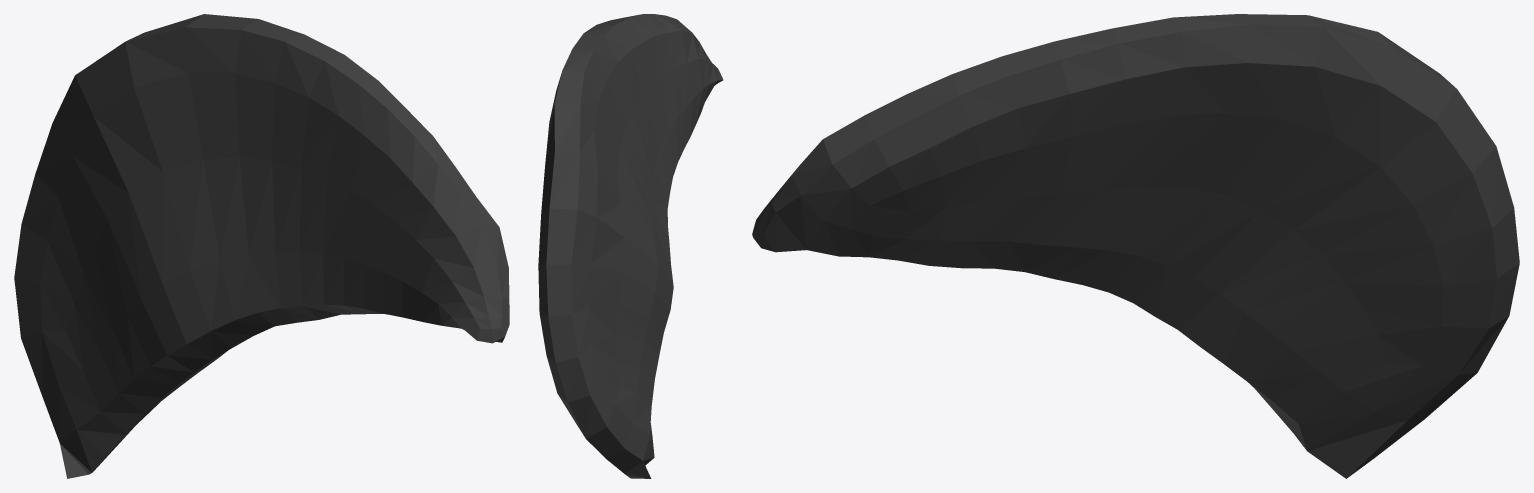
Rendered from RFL_scapula_cartilage.glb.
The picture shows the model from 3 angles, left to right: view 1: azimuth 30°, elevation 25°; view 2: azimuth 150°, elevation 25°; view 3: azimuth 270°, elevation 25°; orthographic projection. The views are drawn at different scales.
Visible parts, largest first — view 1: RFL_scapula_cartilage; view 2: RFL_scapula_cartilage; view 3: RFL_scapula_cartilage.
Boxes of the visible parts, <box> form: RFL_scapula_cartilage: <box>14,14,509,478</box>; RFL_scapula_cartilage: <box>538,14,723,478</box>; RFL_scapula_cartilage: <box>752,14,1519,478</box>.
Bounding box in the file's own units: 10.7 × 21.77 × 28.58.
Materials: 1 (1 with a texture image).
